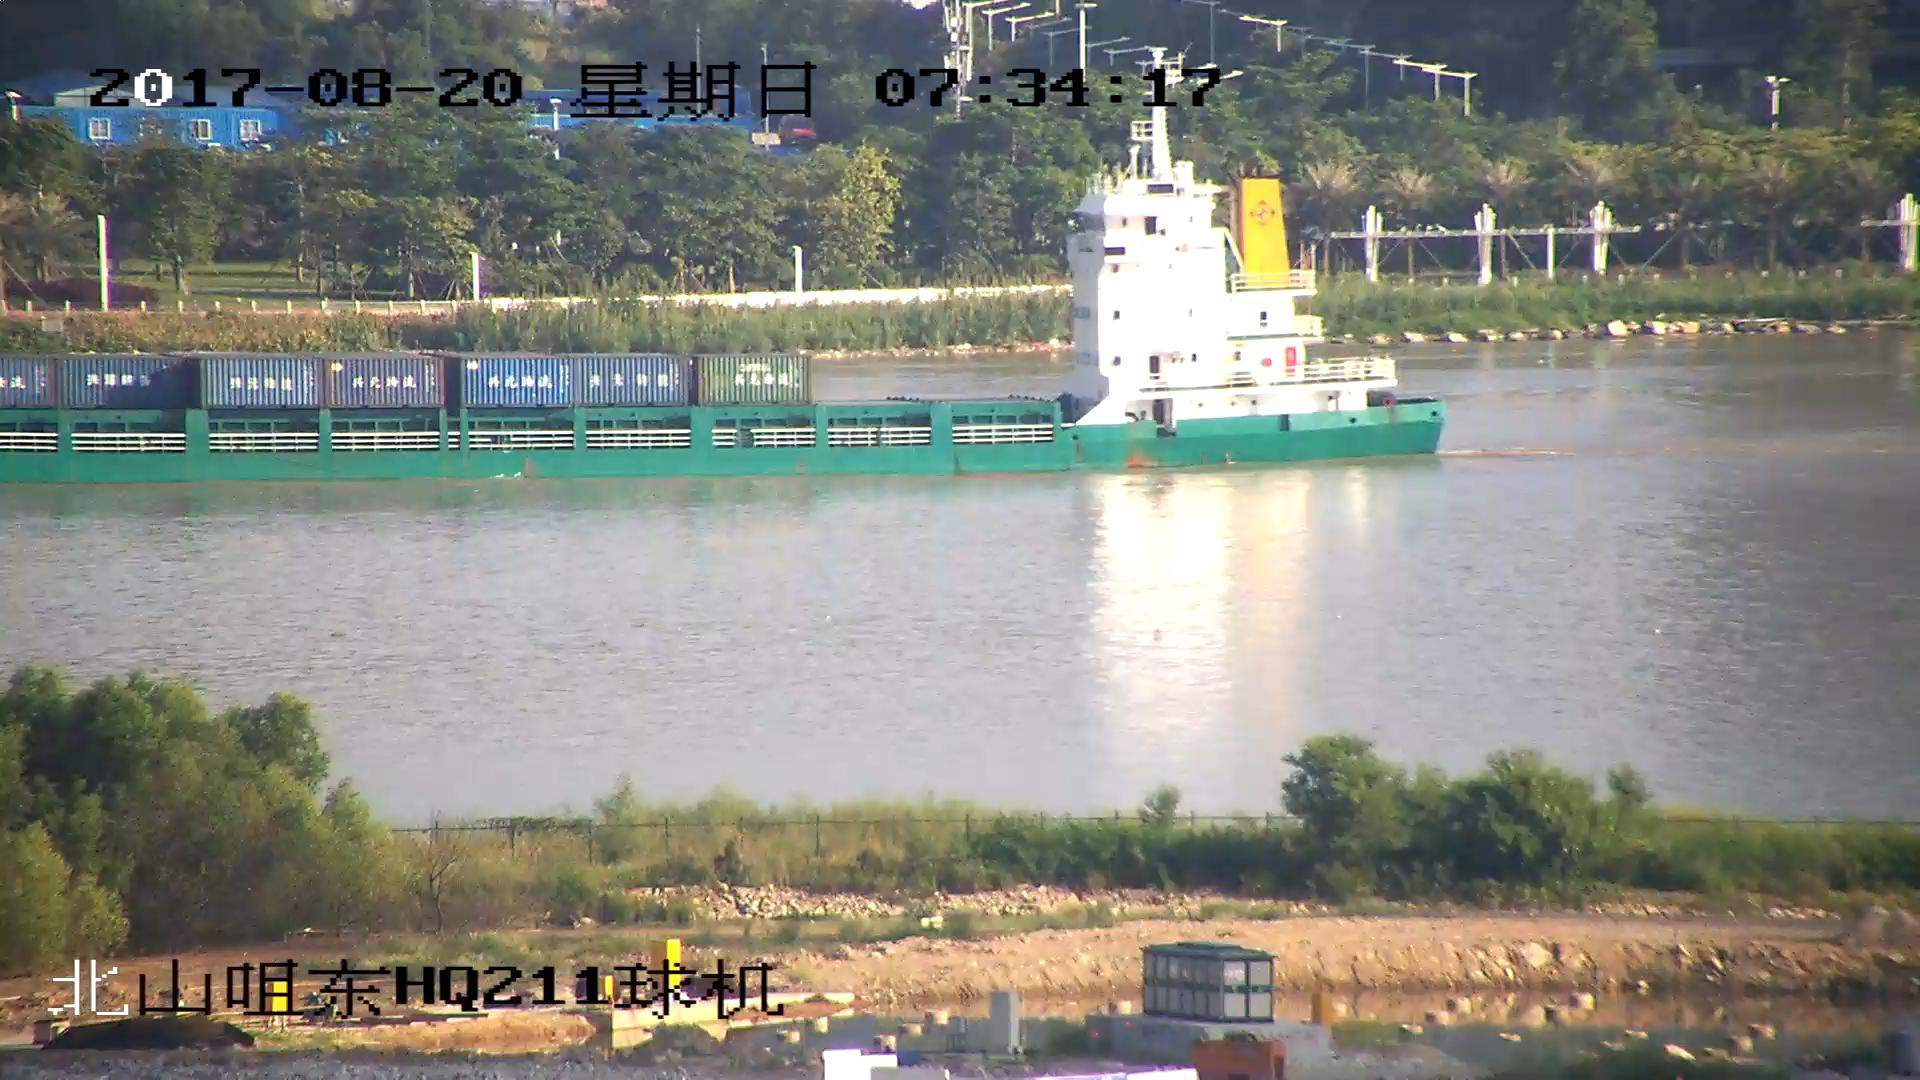general cargo ship: (1, 110, 1444, 482)
